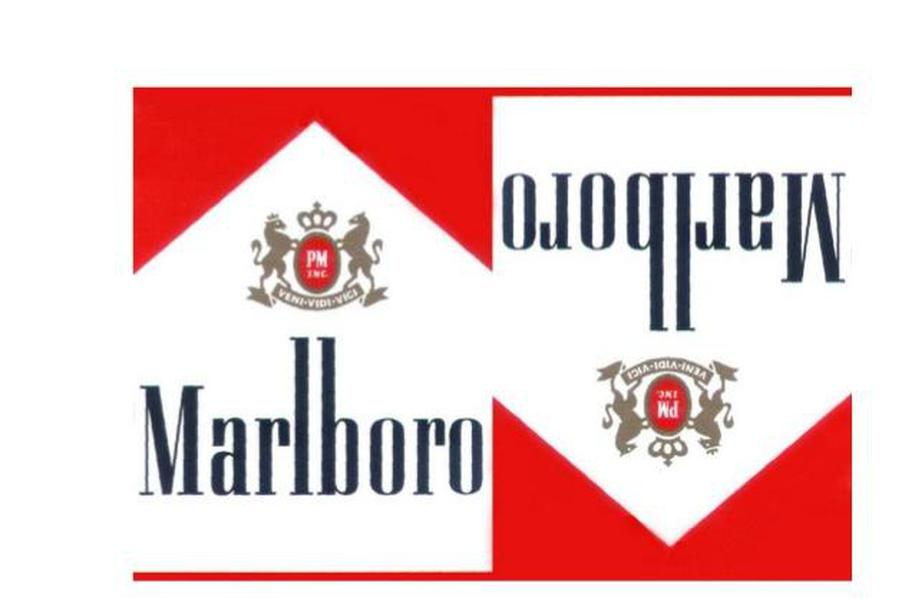marlboro_red: (132, 87, 492, 581), (493, 89, 849, 581)
